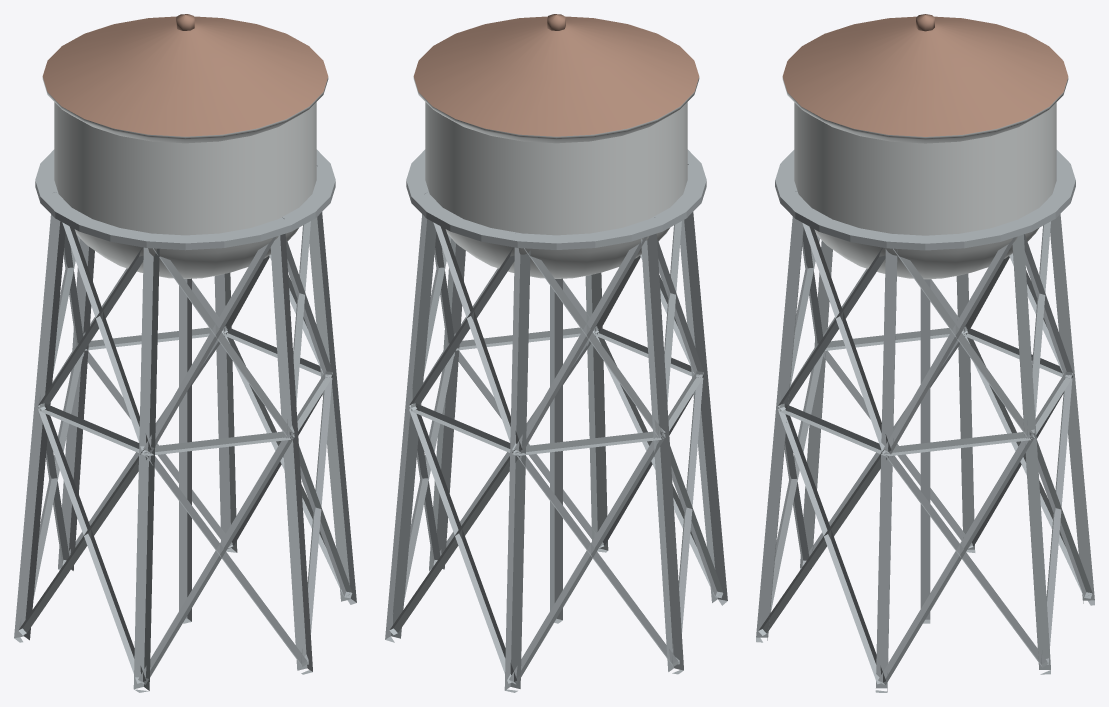
The picture shows the model from 3 angles, left to right: view 1: azimuth 30°, elevation 25°; view 2: azimuth 150°, elevation 25°; view 3: azimuth 270°, elevation 25°; orthographic projection.
Visible parts, largest first — view 1: alcatraz-water-tower; view 2: alcatraz-water-tower; view 3: alcatraz-water-tower.
Part boxes in pixels (x1,y1,x2,y2): alcatraz-water-tower: [14, 14, 356, 692]; alcatraz-water-tower: [385, 14, 727, 692]; alcatraz-water-tower: [756, 14, 1094, 692].
Bounding box in the file's own units: 16 × 31.6 × 16.
